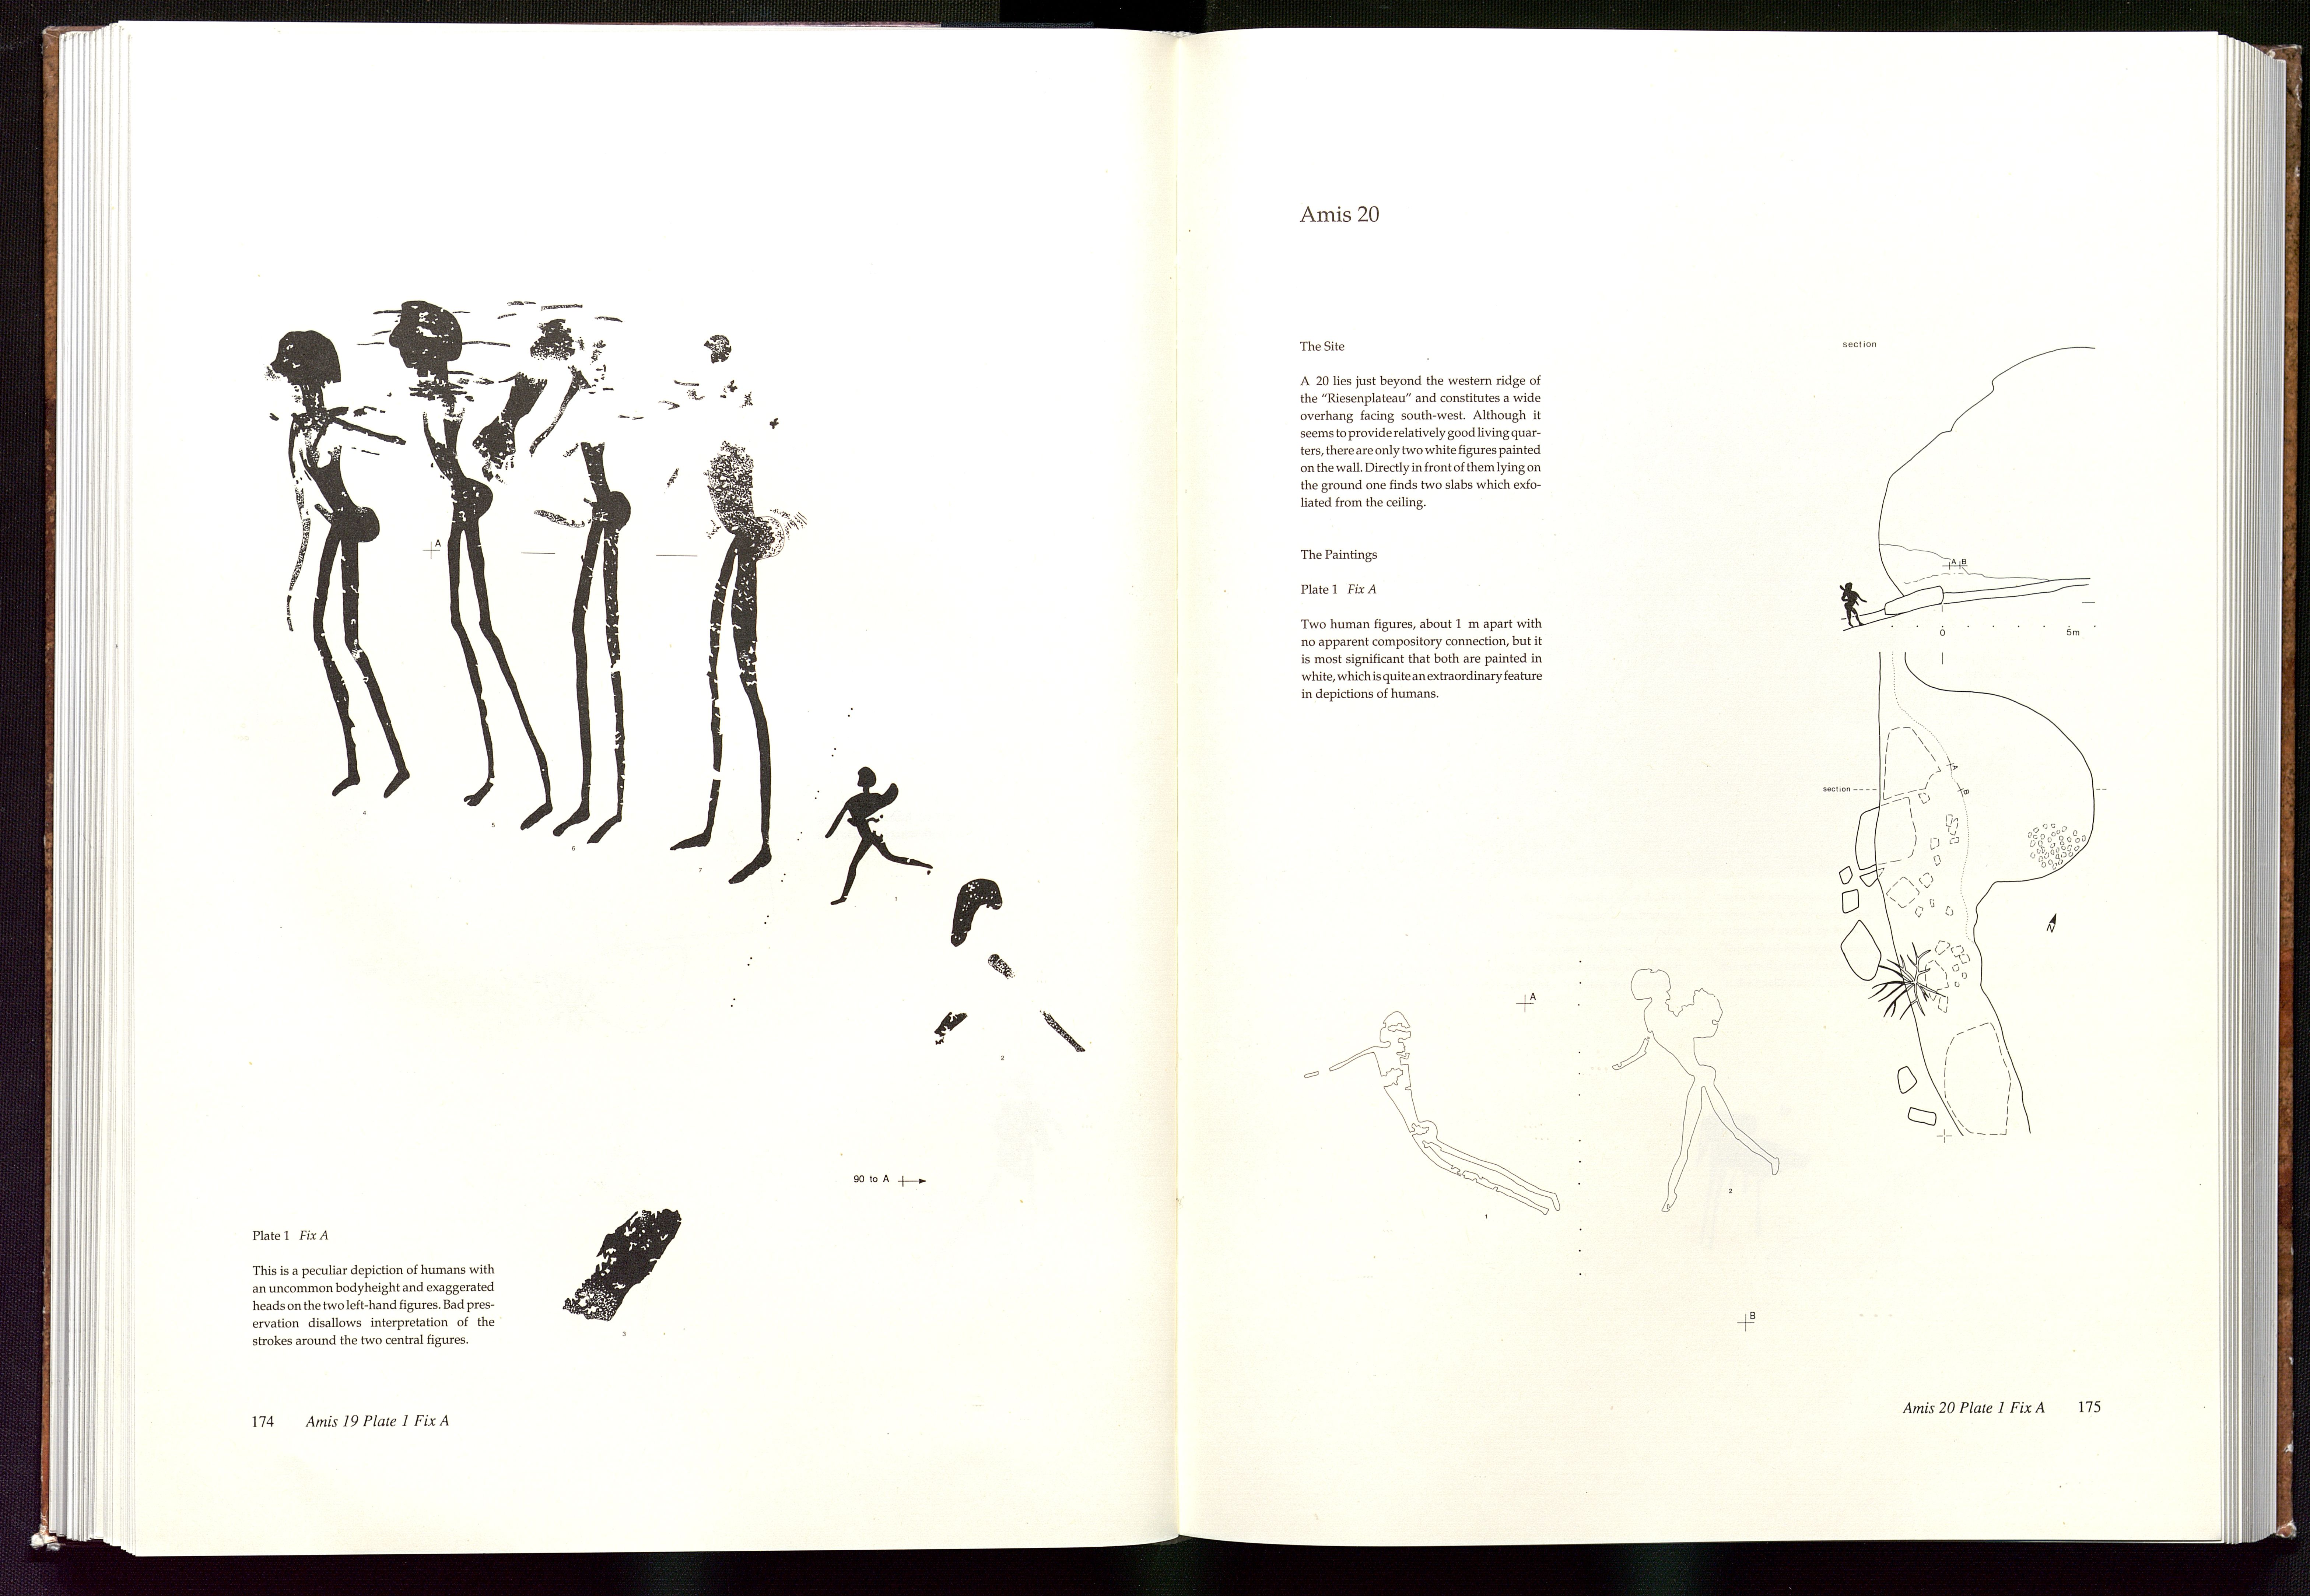human: (380, 296, 564, 860), (250, 323, 429, 814), (655, 333, 788, 892), (525, 308, 643, 868), (810, 760, 947, 937)
